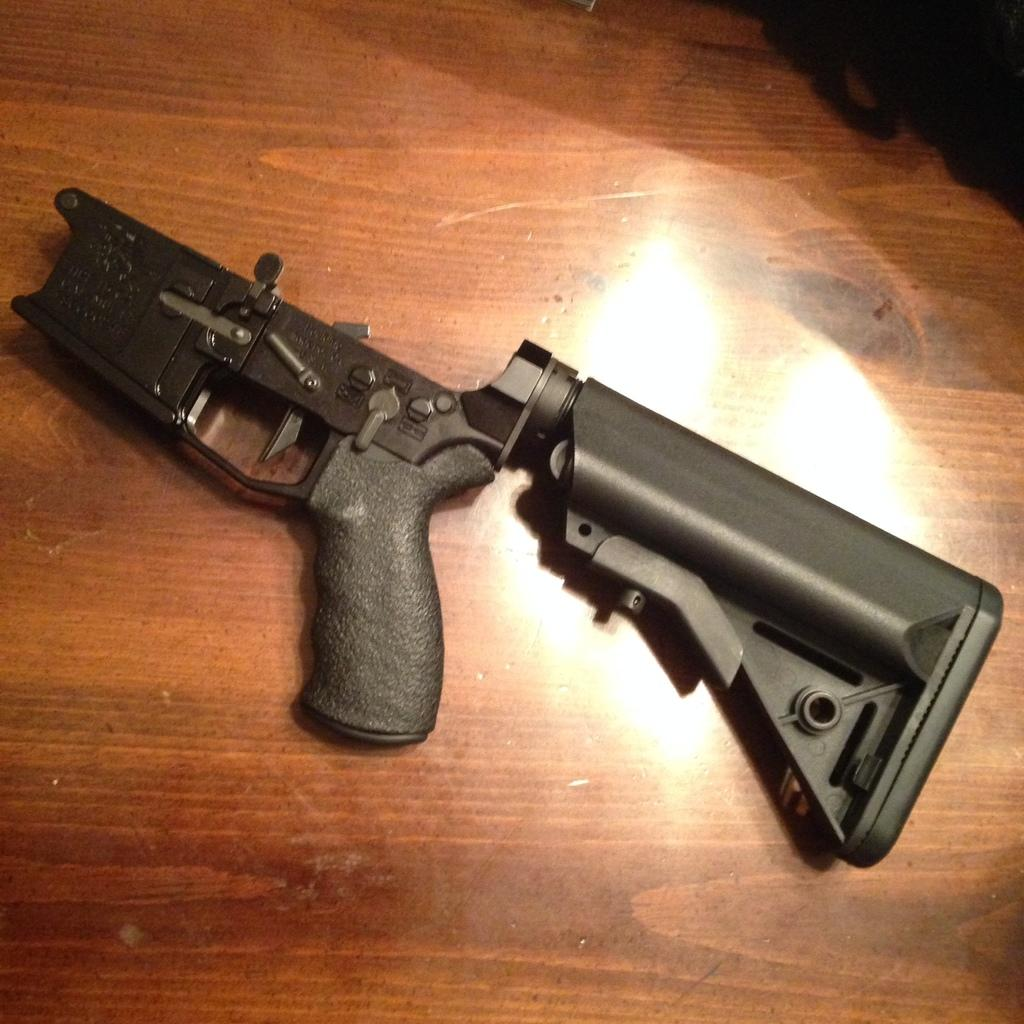Handgun: (6, 184, 1003, 877)
